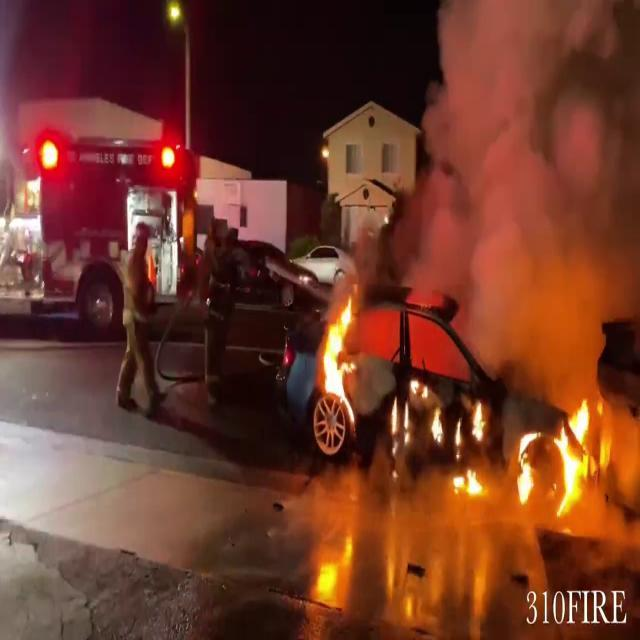Fire: (516, 392, 606, 515), (548, 393, 604, 512), (316, 289, 362, 423), (308, 526, 356, 614), (514, 432, 538, 508), (452, 463, 484, 501)
Smoke: (386, 0, 640, 364)
